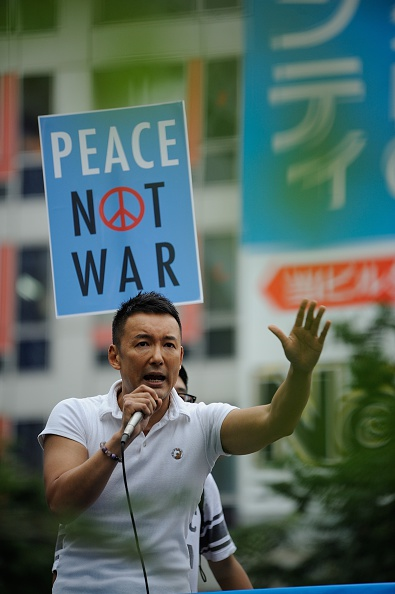em pe: (39, 271, 322, 589)
